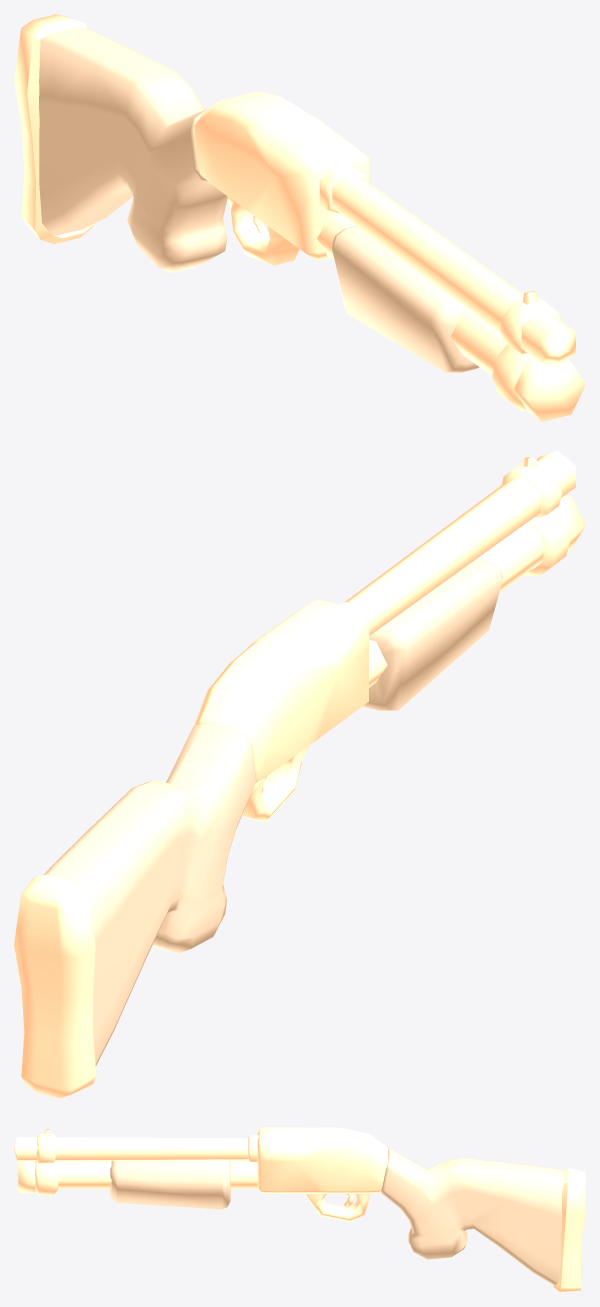
The model's file is Weapon_5.fbx.
3 views of the same model, one above another, from view 1: azimuth 30°, elevation 25°; view 2: azimuth 150°, elevation 25°; view 3: azimuth 270°, elevation 25° (orthographic). The views are drawn at different scales.
Visible parts, largest first — view 1: ShotGunMesh; view 2: ShotGunMesh; view 3: ShotGunMesh.
Boxes of the visible parts, bbox=[...] form: ShotGunMesh: bbox=[14, 14, 585, 421]; ShotGunMesh: bbox=[14, 450, 585, 1098]; ShotGunMesh: bbox=[14, 1127, 585, 1292].
Bounding box in the file's own units: 27.63 × 101 × 329.
